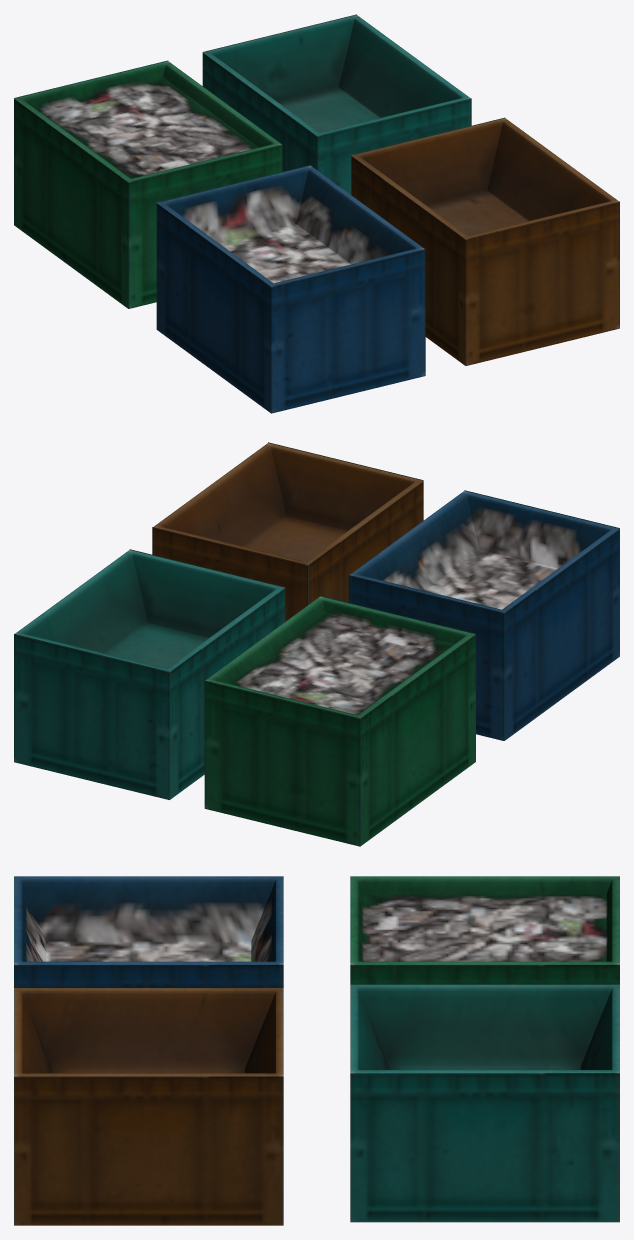
The model's file is Crates.fbx.
3 renders of one model, top to bottom at view 1: azimuth 30°, elevation 25°; view 2: azimuth 150°, elevation 25°; view 3: azimuth 270°, elevation 25°, orthographic. The views are drawn at different scales.
Visible parts, largest first — view 1: Crate03, Crate02, Crate04, Crate01; view 2: Crate04, Crate01, Crate03, Crate02; view 3: Crate01, Crate02, Crate03, Crate04.
Boxes of the visible parts, x1,y1,x2,y2 form: Crate03: [156, 165, 425, 413]; Crate02: [351, 117, 619, 365]; Crate04: [14, 60, 282, 308]; Crate01: [202, 14, 471, 194]; Crate04: [204, 595, 475, 846]; Crate01: [14, 549, 285, 799]; Crate03: [348, 490, 619, 740]; Crate02: [152, 442, 423, 621]; Crate01: [350, 984, 619, 1222]; Crate02: [14, 988, 283, 1225]; Crate03: [14, 876, 283, 987]; Crate04: [350, 876, 619, 984].
Size of the model in its own units: 97.96 by 34.16 by 125.
